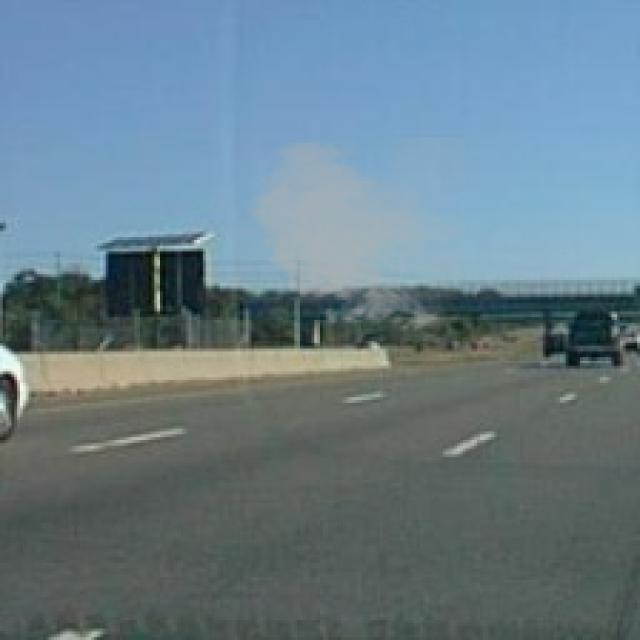Smoke: (237, 134, 466, 337)
